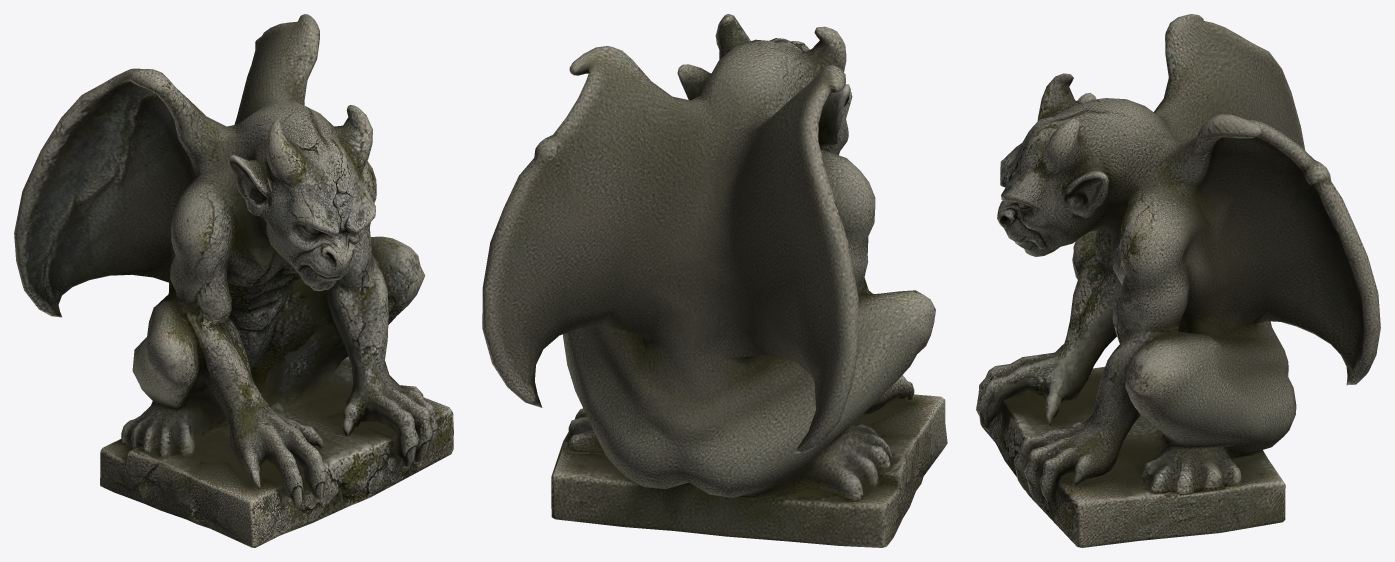
File: 0292_gargoyle.glb
3 views of the same model, side by side, from view 1: azimuth 30°, elevation 25°; view 2: azimuth 150°, elevation 25°; view 3: azimuth 270°, elevation 25° (orthographic). The views are drawn at different scales.
Parts seen in each view (by area): view 1: tripo_node_84cc89f9-6ecf-483b-8933-13fa252e651d; view 2: tripo_node_84cc89f9-6ecf-483b-8933-13fa252e651d; view 3: tripo_node_84cc89f9-6ecf-483b-8933-13fa252e651d.
Part boxes in pixels (x1,y1,x2,y2): tripo_node_84cc89f9-6ecf-483b-8933-13fa252e651d: [14, 14, 453, 547]; tripo_node_84cc89f9-6ecf-483b-8933-13fa252e651d: [482, 14, 947, 547]; tripo_node_84cc89f9-6ecf-483b-8933-13fa252e651d: [976, 14, 1380, 547].
Size of the model in its own units: 0.4283 by 0.5 by 0.4489.
1 material, 1 textured.
